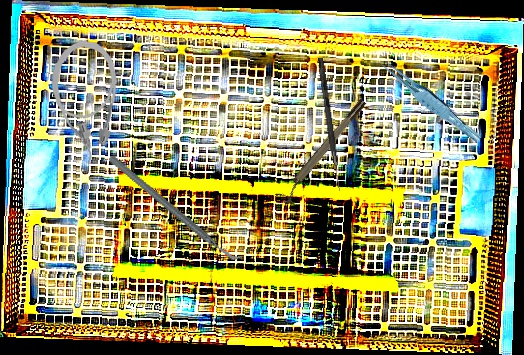Cannula: (47, 38, 120, 166)
Chopper: (107, 122, 246, 295)
Fixation Ring: (274, 97, 373, 206)
Hook Surgical: (316, 57, 344, 192)
Tissue Forceps: (376, 49, 483, 150)
